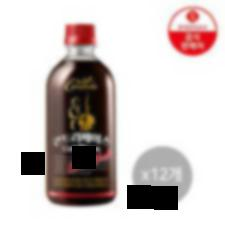contrabass_sweetblack: (43, 23, 123, 206)
